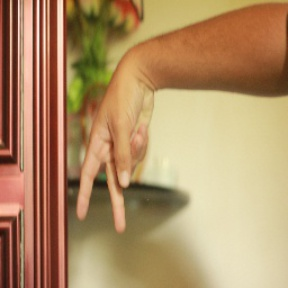Y: (74, 62, 158, 244)
